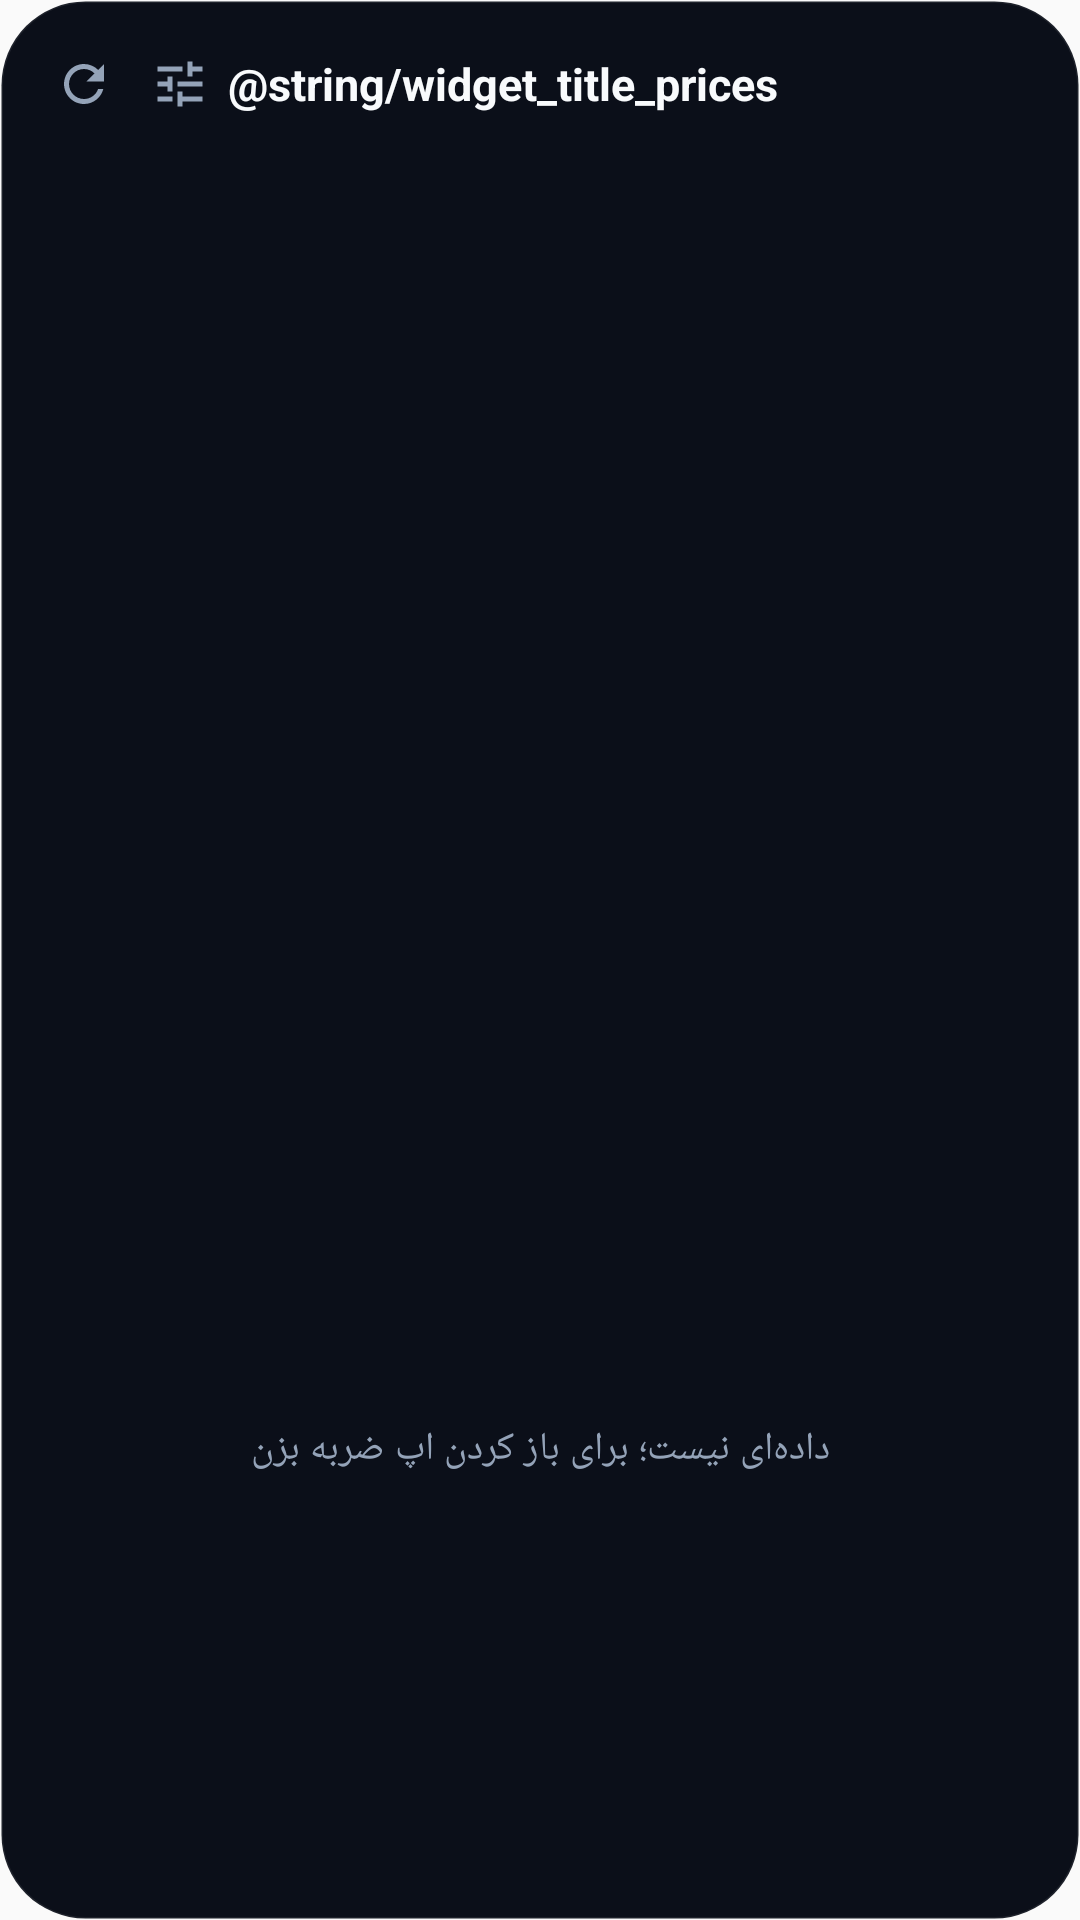

Icons on this 1080 × 1920 Android screen, each with the point to tap as [x,y]:
widget refresh: [84,84]
widget settings: [180,84]
